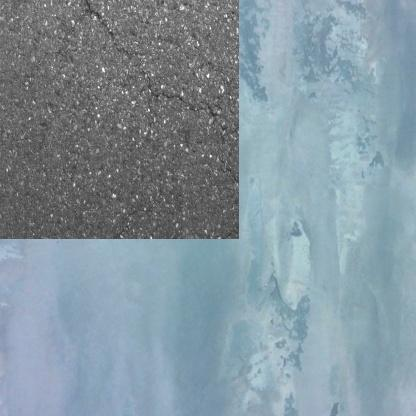Cracks: (134, 68, 203, 111), (70, 0, 123, 53), (199, 143, 221, 173), (199, 112, 211, 132)
